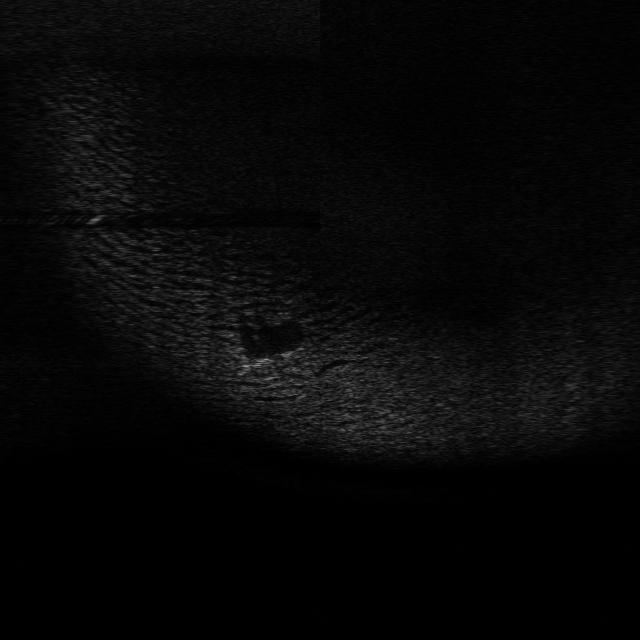plane: (234, 346, 302, 380)
